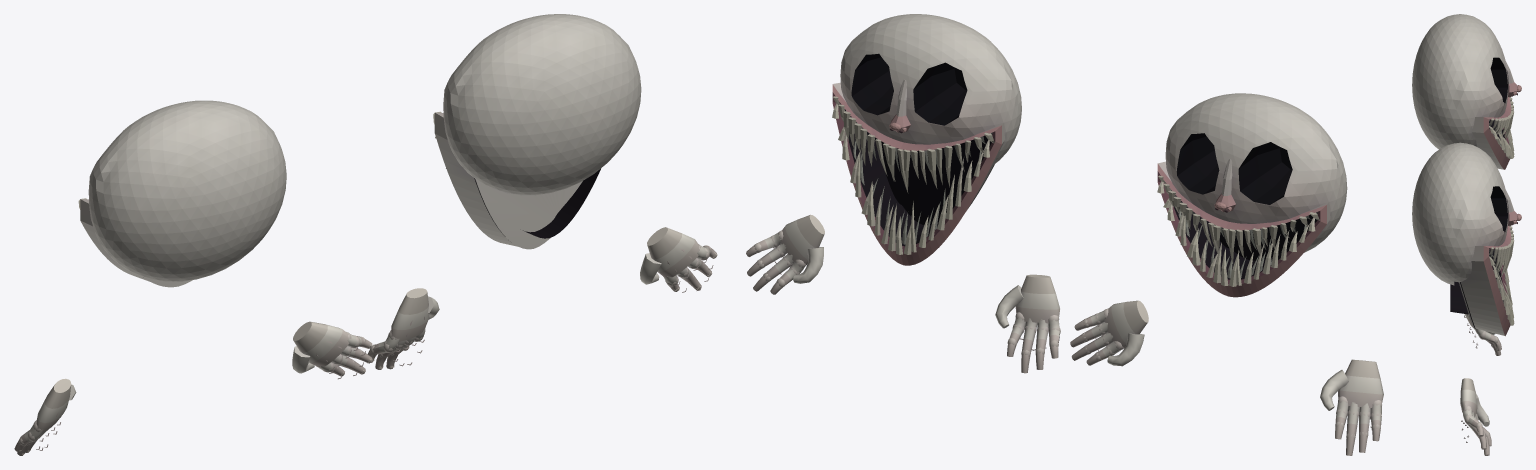
The model's file is DealerV4.glb.
3 renders of one model, left to right at view 1: azimuth 30°, elevation 25°; view 2: azimuth 150°, elevation 25°; view 3: azimuth 270°, elevation 25°, orthographic. The views are drawn at different scales.
Visible parts, largest first — view 1: BuckshotDealer_Aggressive__Head, BuckshotDealer_Passive__Head, BuckshotDealer_Passive__ArmR, BuckshotDealer_Aggressive__ArmR, BuckshotDealer_Aggressive__ArmL, BuckshotDealer_Passive__ArmL; view 2: BuckshotDealer_Aggressive__Head, BuckshotDealer_Passive__Head, BuckshotDealer_Aggressive__ArmL, BuckshotDealer_Passive__ArmL, BuckshotDealer_Aggressive__ArmR, BuckshotDealer_Passive__ArmR; view 3: BuckshotDealer_Aggressive__Head, BuckshotDealer_Passive__Head, BuckshotDealer_Aggressive__ArmR, BuckshotDealer_Aggressive__ArmL.
Part boxes in pixels (x1,y1,x2,y2): BuckshotDealer_Aggressive__Head: [433, 14, 641, 249]; BuckshotDealer_Passive__Head: [78, 100, 286, 287]; BuckshotDealer_Passive__ArmR: [292, 321, 372, 379]; BuckshotDealer_Aggressive__ArmR: [640, 227, 717, 292]; BuckshotDealer_Aggressive__ArmL: [367, 288, 439, 369]; BuckshotDealer_Passive__ArmL: [14, 378, 76, 455]; BuckshotDealer_Aggressive__Head: [832, 14, 1021, 265]; BuckshotDealer_Passive__Head: [1157, 93, 1347, 297]; BuckshotDealer_Aggressive__ArmL: [995, 274, 1060, 373]; BuckshotDealer_Passive__ArmL: [1320, 359, 1383, 455]; BuckshotDealer_Aggressive__ArmR: [746, 214, 824, 294]; BuckshotDealer_Passive__ArmR: [1070, 300, 1148, 366]; BuckshotDealer_Aggressive__Head: [1412, 142, 1521, 336]; BuckshotDealer_Passive__Head: [1412, 14, 1521, 169]; BuckshotDealer_Aggressive__ArmR: [1460, 378, 1491, 455]; BuckshotDealer_Aggressive__ArmL: [1464, 314, 1501, 355].
Size of the model in its own units: 13.73 by 6.32 by 2.52.
